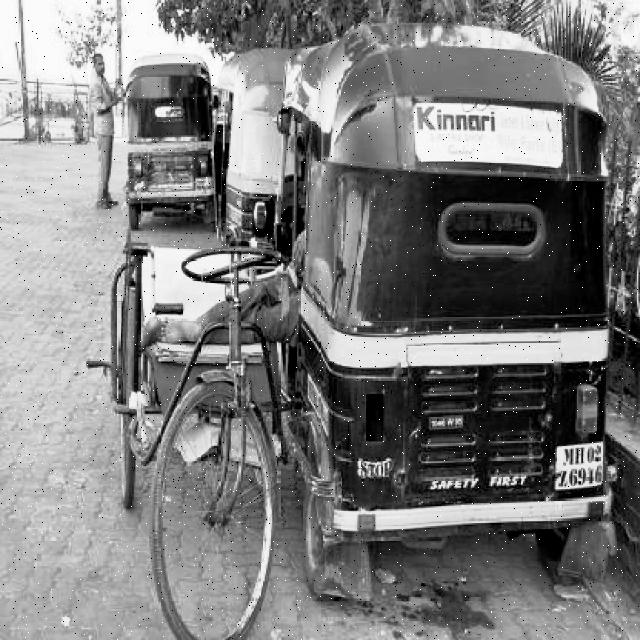Auto-Rickshaw: (273, 31, 632, 580), (119, 52, 226, 242)
